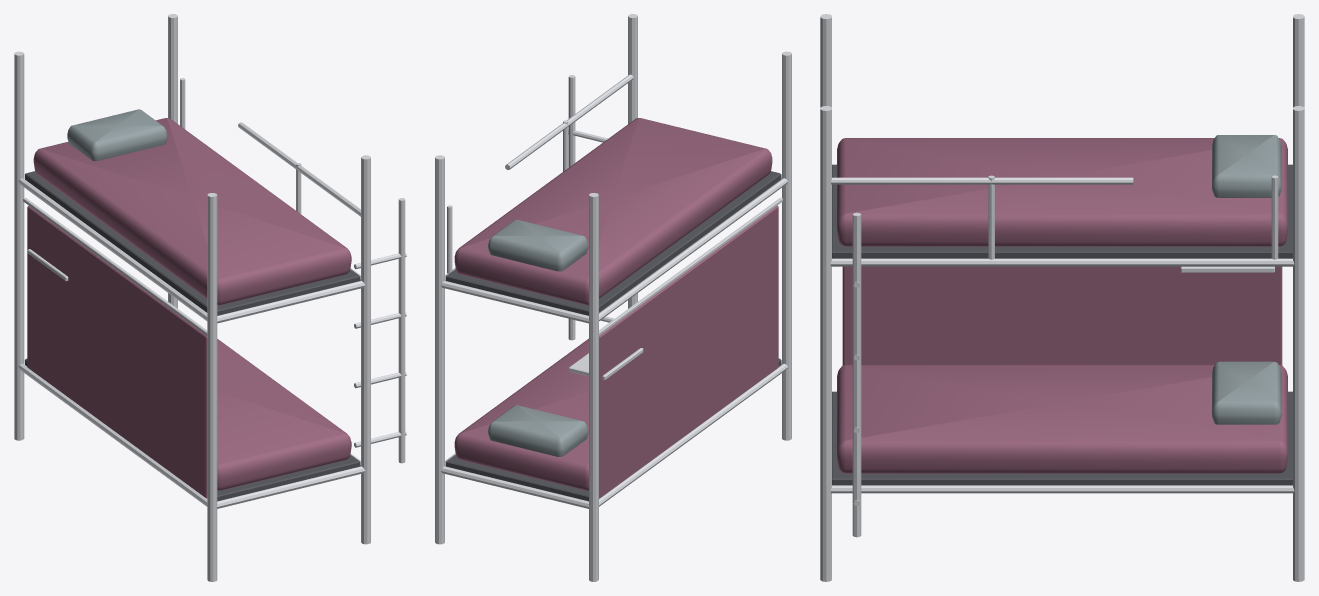
Rendered from cyberpunk-apartment-and-neon-block-bunk-stack-84bb4f60__37804.glb.
3 renders of one model, left to right at view 1: azimuth 30°, elevation 25°; view 2: azimuth 150°, elevation 25°; view 3: azimuth 270°, elevation 25°, orthographic. The views are drawn at different scales.
Parts seen in each view (by area): view 1: bunk-stack; view 2: bunk-stack; view 3: bunk-stack.
Boxes of the visible parts, x1,y1,x2,y2 form: bunk-stack: (14, 14, 406, 581); bunk-stack: (435, 14, 791, 581); bunk-stack: (820, 14, 1304, 581).
Bounding box in the file's own units: 1.26 × 2.2 × 2.05.
